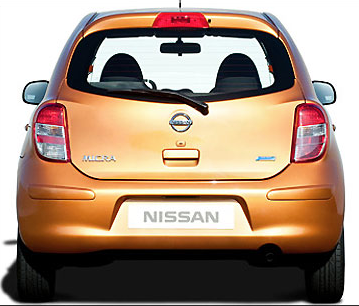car: (13, 6, 346, 304)
